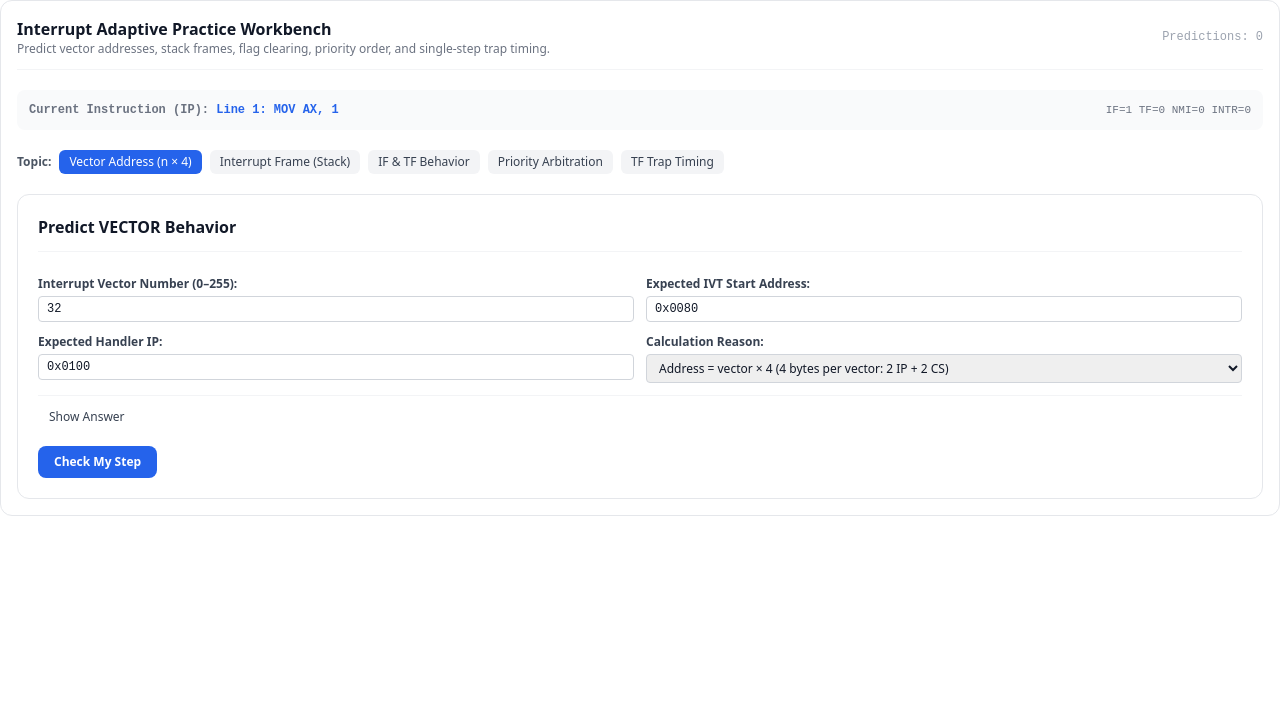
Test: InterruptPractice › shows answer when Show Answer is clicked
What coordinates should you click on to do the following:
click the button "Show Answer"
I would click on:
 (87, 417)
Its box is [38,404,136,430].
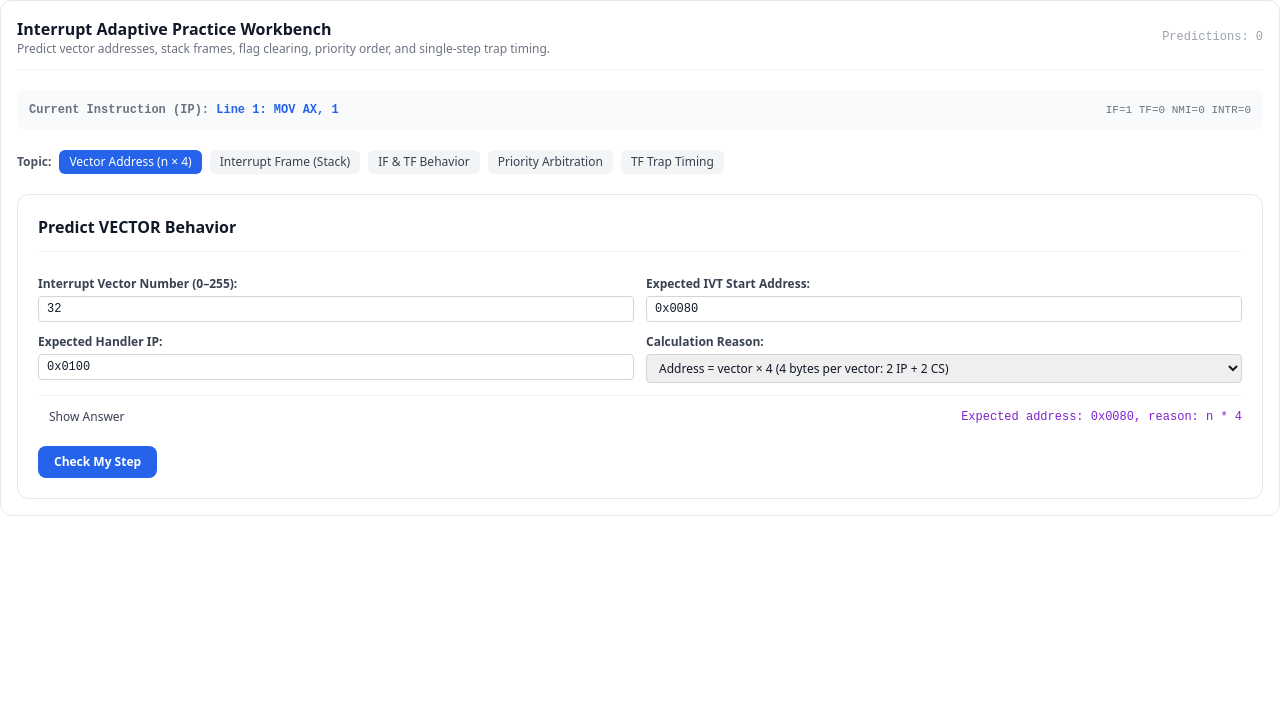
Now the text "Expected address: 0x0080, reason: n * 4" is shown, box [961,409,1242,425]
